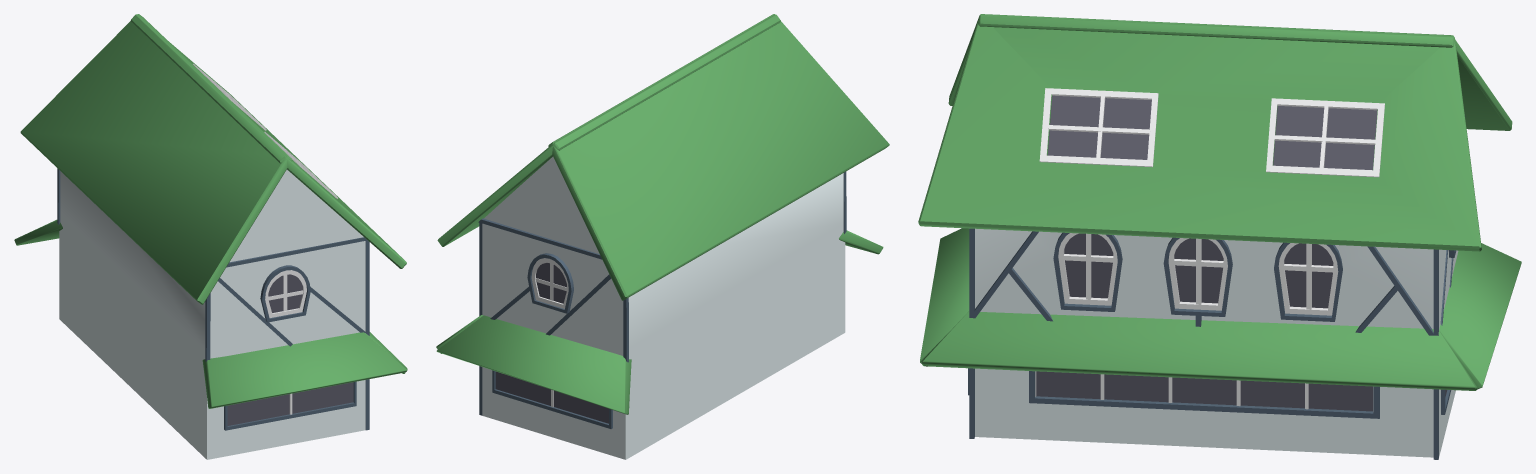
Rendered from House7.fbx.
The picture shows the model from 3 angles, left to right: view 1: azimuth 30°, elevation 25°; view 2: azimuth 150°, elevation 25°; view 3: azimuth 270°, elevation 25°; orthographic projection. The views are drawn at different scales.
Parts seen in each view (by area): view 1: Default(95362F49-23E4-4242-8E57-A1858F20DD11), Default(F5450F32-A8AB-497E-A65F-84E7580E7F9C), Group030, Default(E8EABB30-4DBE-4D15-9251-35236D81D353+, polySurface50, Default(45E0E12E-A747-4F59-B517-96CC6C6AE410,, polySurface21, polySurface28, Default(FBCAC2C4-2A7C-4F54-8346-93345FB9E5B1), polySurface47; view 2: Default(95362F49-23E4-4242-8E57-A1858F20DD11), Default(F5450F32-A8AB-497E-A65F-84E7580E7F9C), Group030, polySurface45, Default(E8EABB30-4DBE-4D15-9251-35236D81D353*, polySurface14, polySurface31, polySurface22; view 3: Default(F5450F32-A8AB-497E-A65F-84E7580E7F9C), Default(95362F49-23E4-4242-8E57-A1858F20DD11), Group030, Default(D57FB093-4227-4E42-A99B-2B31EBCCD2C9), Default(E8EABB30-4DBE-4D15-9251-35236D81D353), Default(FBCAC2C4-2A7C-4F54-8346-93345FB9E5B1), Default(0B715A9C-B48F-4C3C-9402-B8496EE8E559), Default(1289DDDA-2527-40CC-A278-A62C9964F518), polySurface26, polySurface23, polySurface24, polySurface25 (+4 smaller).
Boxes of the visible parts, <box> form: Default(95362F49-23E4-4242-8E57-A1858F20DD11): <box>59,169,365,459</box>; Default(F5450F32-A8AB-497E-A65F-84E7580E7F9C): <box>20,14,406,304</box>; Group030: <box>14,219,407,408</box>; Default(E8EABB30-4DBE-4D15-9251-35236D81D353+: <box>227,382,353,425</box>; polySurface50: <box>260,265,310,322</box>; Default(45E0E12E-A747-4F59-B517-96CC6C6AE410,: <box>224,381,356,430</box>; polySurface21: <box>365,240,369,430</box>; polySurface28: <box>226,237,367,267</box>; Default(FBCAC2C4-2A7C-4F54-8346-93345FB9E5B1): <box>193,63,337,198</box>; polySurface47: <box>218,278,292,346</box>; Default(95362F49-23E4-4242-8E57-A1858F20DD11): <box>482,156,845,459</box>; Default(F5450F32-A8AB-497E-A65F-84E7580E7F9C): <box>437,14,889,300</box>; Group030: <box>436,230,883,414</box>; polySurface45: <box>527,253,573,313</box>; Default(E8EABB30-4DBE-4D15-9251-35236D81D353*: <box>495,371,608,423</box>; polySurface14: <box>492,370,612,428</box>; polySurface31: <box>478,218,602,259</box>; polySurface22: <box>479,222,482,415</box>; Default(F5450F32-A8AB-497E-A65F-84E7580E7F9C): <box>918,14,1512,251</box>; Default(95362F49-23E4-4242-8E57-A1858F20DD11): <box>975,228,1458,457</box>; Group030: <box>920,228,1521,390</box>; Default(D57FB093-4227-4E42-A99B-2B31EBCCD2C9): <box>1047,95,1377,170</box>; Default(E8EABB30-4DBE-4D15-9251-35236D81D353): <box>1036,371,1372,411</box>; Default(FBCAC2C4-2A7C-4F54-8346-93345FB9E5B1): <box>1039,88,1384,177</box>; Default(0B715A9C-B48F-4C3C-9402-B8496EE8E559): <box>1064,233,1333,308</box>; Default(1289DDDA-2527-40CC-A278-A62C9964F518): <box>1058,233,1338,315</box>; polySurface26: <box>1029,371,1379,418</box>; polySurface23: <box>1053,232,1122,311</box>; polySurface24: <box>1163,237,1232,316</box>; polySurface25: <box>1274,242,1342,321</box>.
Bounding box in the file's own units: 121 × 139 × 204.
